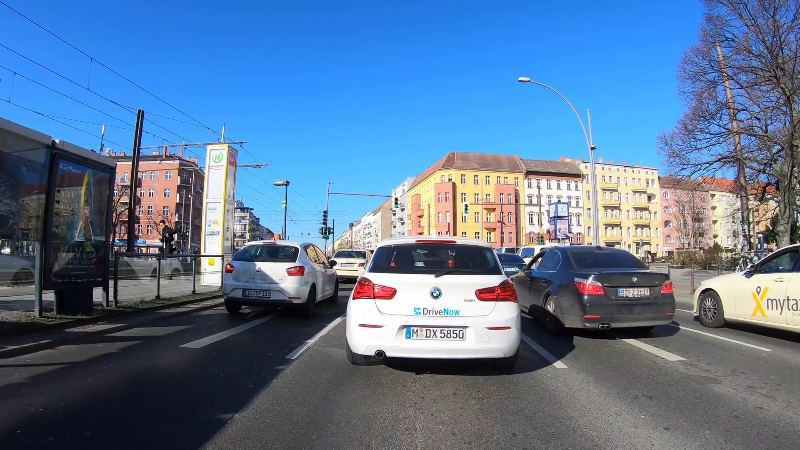Plate: (403, 324, 469, 343), (614, 286, 651, 298), (239, 285, 272, 298), (503, 266, 521, 273), (339, 262, 356, 268)
